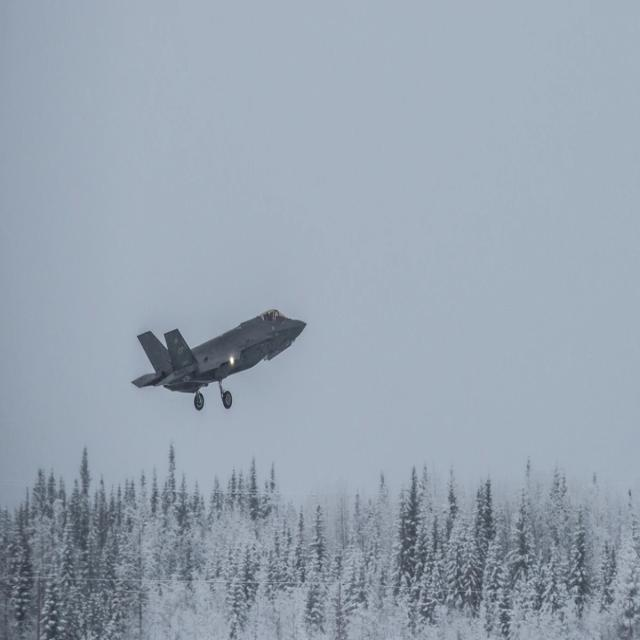MIL_Plane: (130, 308, 306, 410)
